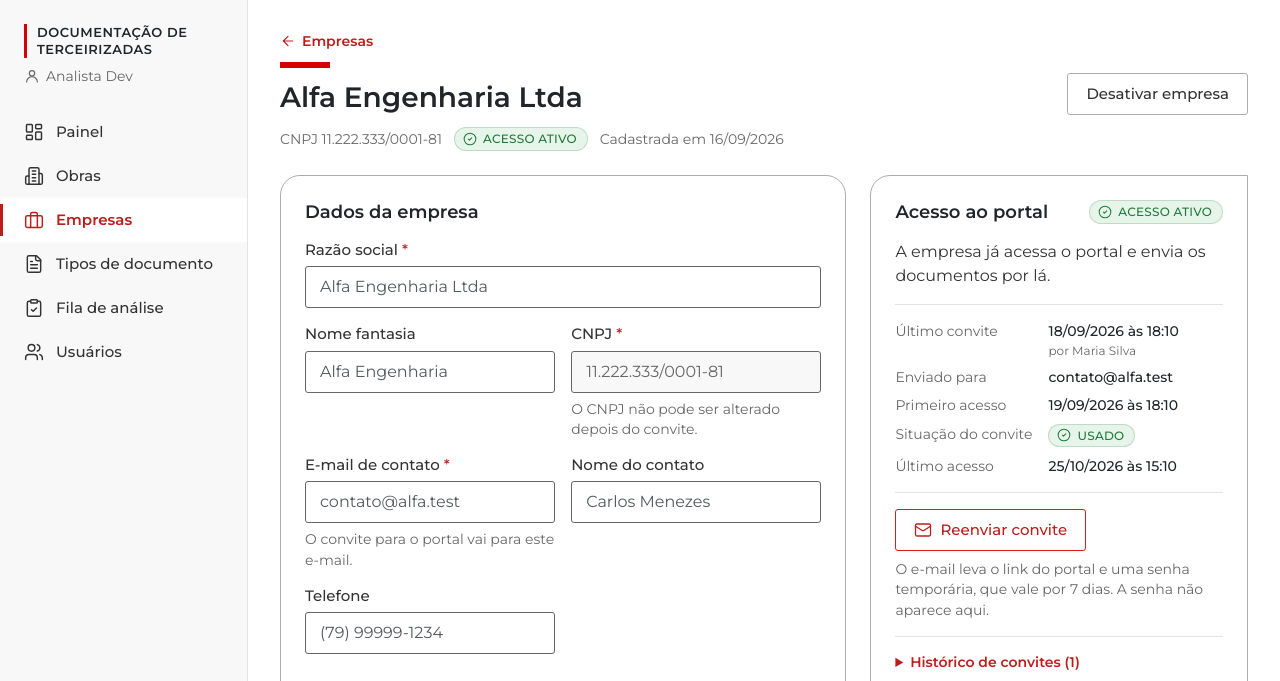
Scenario: Detalhe da empresa — dados e ativação › desativar pede confirmação e muda o selo para "Desativada"
This screenshot has width=1280, height=681.
expect the heading "Alfa Engenharia Ltda" is shown: met, box [280, 80, 583, 114]
expect the text "Desativada" is not shown: met
Click the button "Desativar empresa". click: (1158, 94)
box: [1067, 73, 1248, 115]
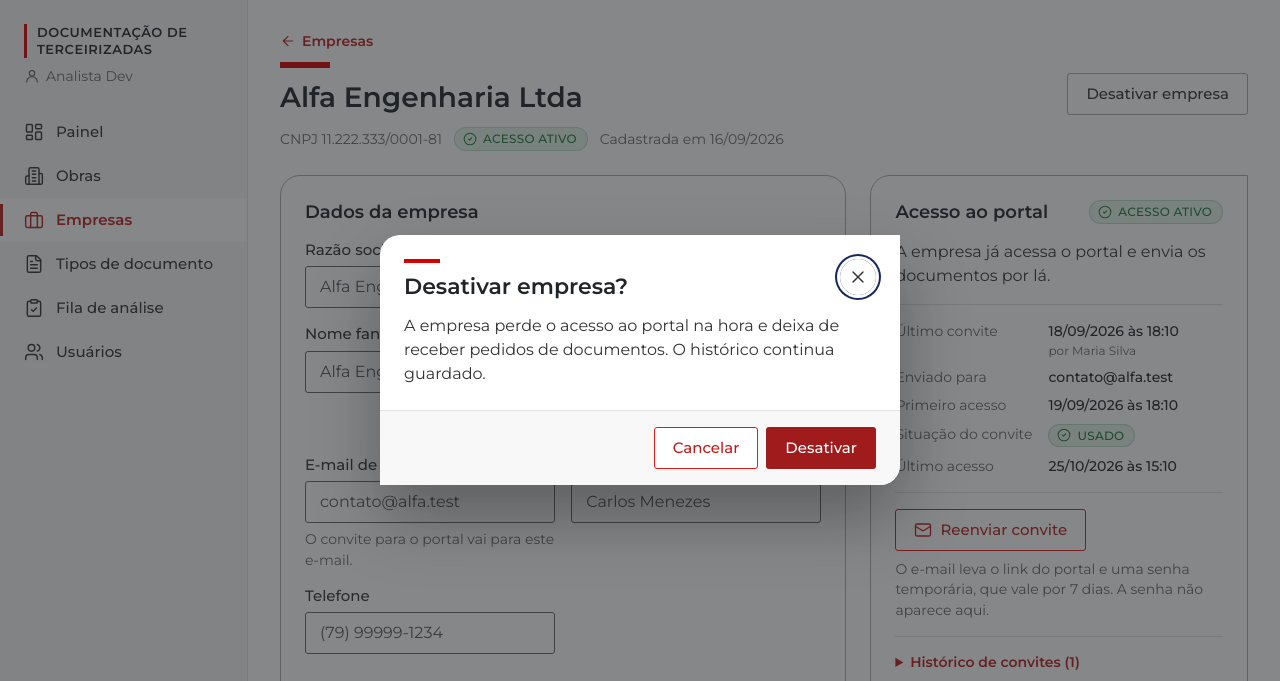
expect the dialog "Desativar empresa?" shows "A empresa perde o acesso ao portal na hora": met, box [404, 316, 839, 383]
Click the button "Desativar". click: (821, 448)
box: [766, 427, 876, 469]
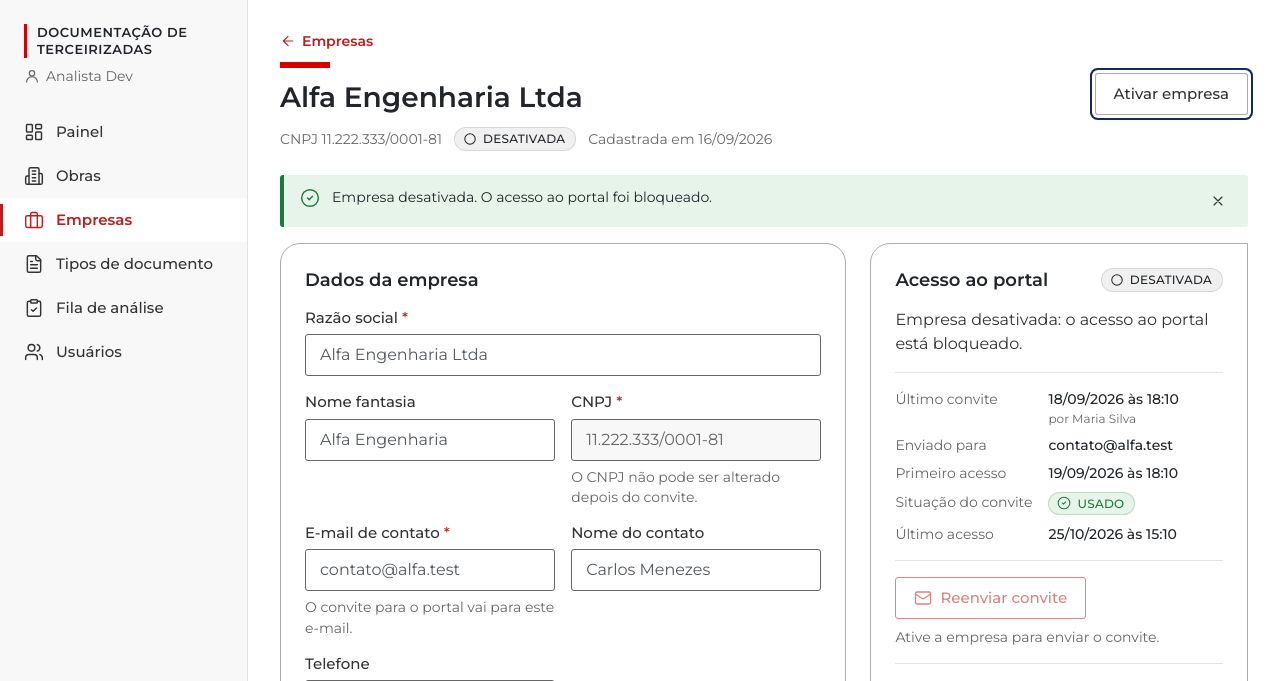
expect the dialog is gone: met
expect the text "Empresa desativada. O acesso ao portal foi bloqueado." is shown: met, box [332, 187, 712, 207]
expect the text "Desativada" next to "Cadastrada em" is shown: met, box [483, 131, 565, 146]
